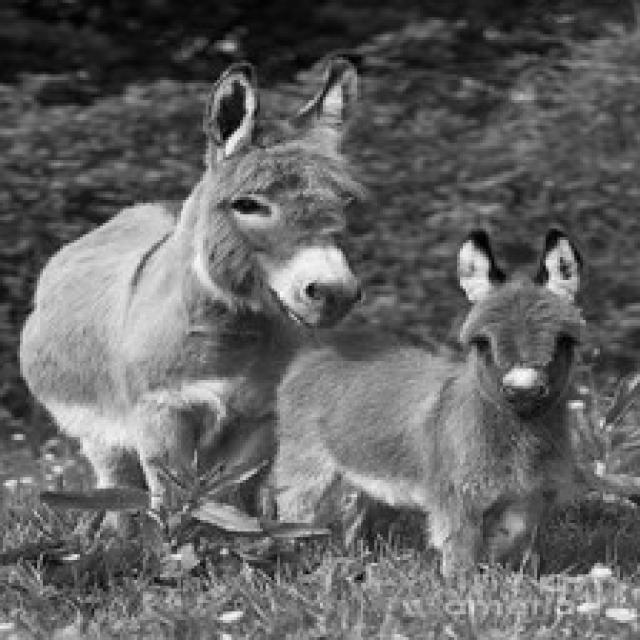Donkey: (17, 51, 366, 543), (260, 226, 586, 580)
